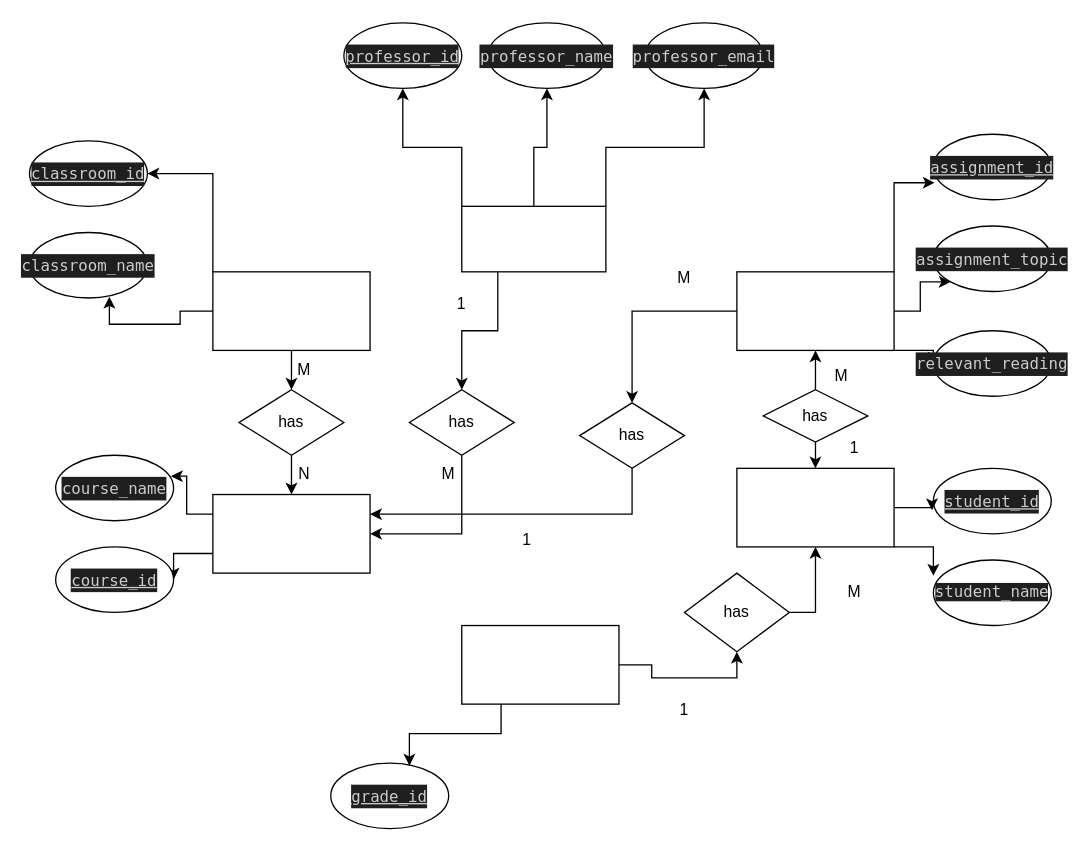
Some shapes in this 1091 by 851 pixel diagram are drawn without their labels. The shapes that lost their labels are listed below. From the top down, each one's centre as x and y in pixels, then its label:
At point (533, 238): "Professor".
At point (291, 310): "Classroom".
At point (815, 310): "Assignment".
At point (815, 507): "Student".
At point (291, 533): "Course".
At point (539, 664): "Grade".
